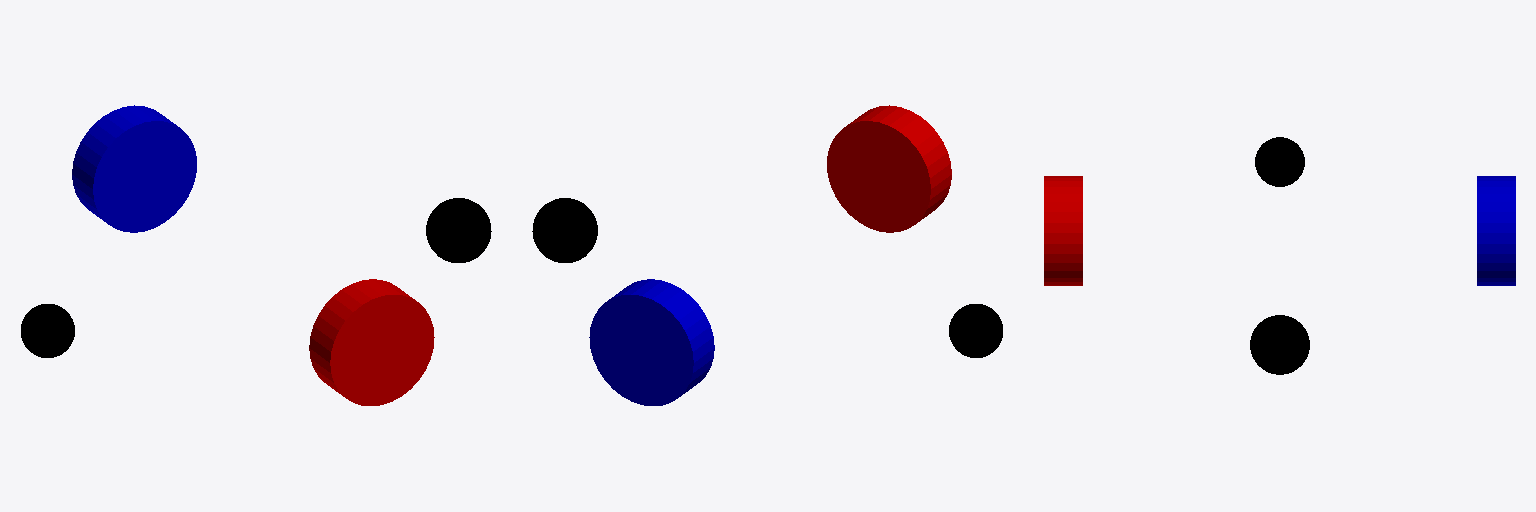
URDF robot description (iRobot):
<?xml version="1.0" ?>
<!-- =================================================================================== -->
<!-- |    This document was autogenerated by xacro from iRobot.urdf.xacro              | -->
<!-- |    EDITING THIS FILE BY HAND IS NOT RECOMMENDED                                 | -->
<!-- =================================================================================== -->
<robot name="iRobot">

    <material name="black"> 
        <color rgba="0 0 0 1"/>
    </material>
    <material name="blue"> 
        <color rgba="0.0 0.0 0.8 1"/>
    </material>
      <material name="red">
    <color rgba="0.8 0.0 0.0 1"/>
  </material>
<material name="grey">
    <color rgba="0.4 0.4 0.4 1.0"/>
  </material>
  <material name="body">
    <texture filename="materials/textures/create_body.png"/>
</material>


    <link name="base_footprint">
        <visual name="base_visual">
            <origin xyz="0 0 0.047800" rpy="0 0 0 " />
            <geometry>
                <mesh filename="meshes/create_body.dae"/>
            </geometry>
            <material name="grey"/>

        </visual>
        <collision name="base_visual">
            <origin xyz="0 0 0.047800" rpy="0 0 0 " />
            <geometry>
                <mesh filename="meshes/create_body.dae"/>
            </geometry>
        </collision>
    </link>
    <link name="us1_link"/>
    <link name="us2_link"/>
    <link name="us3_link"/>
    <link name="us4_link"/>
    <link name="us5_link"/>
    <link name="us6_link"/>
    <link name="us7_link"/>
    <link name="us8_link"/>
    <link name="imu_link"/>

    <!-- Left  Wheel -->
    <link name="left_wheel_link">
        <visual>
            <geometry>
                <cylinder length="0.023000" radius="0.033000"/>
            </geometry>
            <material name="blue"/>
        </visual>
        <collision>
            <geometry>
                <cylinder length="0.023000" radius="0.033000"/>
            </geometry>
        </collision>
    </link>

    <!-- Right  Wheel -->
    <link name="right_wheel_link">
        <visual>
            <geometry>
                <cylinder length="0.023000" radius="0.033000"/>
            </geometry>
            <material name="red"/>
        </visual>
        <collision>
            <geometry>
                <cylinder length="0.023000" radius="0.033000"/>
            </geometry>
        </collision>
    </link>

    <link name="front_wheel_link">
        <visual>
            <geometry>
                <sphere radius="0.018000" />
            </geometry>
            <material name="black"/>
        </visual>
        <collision>
            <geometry>
                <sphere radius="0.018000" />
            </geometry>
        </collision>
    </link>

    <link name="rear_wheel_link">
        <visual>
            <geometry>
                <sphere radius="0.015000" />
            </geometry>
            <material name="black"/>
        </visual>
        <collision>
            <geometry>
                <sphere radius="0.015000" />
            </geometry>
        </collision>
    </link>
  <link name="laser">
    <inertial>
      <origin rpy="0 0 0" xyz="0 0 0"/>
      <mass value="0.130"/>
      <inertia ixx="4E-06" ixy="0" ixz="0" iyy="4E-06" iyz="0" izz="4E-06"/>
    </inertial>
    <collision>
      <origin rpy="0 0 0" xyz="0 0 0"/>
      <geometry>
        <box size="0.1 0.1 0.1"/>
      </geometry>
    </collision>
    <visual>
      <origin rpy="0 0 0" xyz="0 0 0"/>
      <geometry>
        <mesh filename="meshes/hokuyo.obj"/>
        <material name="grey"/>
      </geometry>
    </visual>
  </link>

  <joint name="hokuyo_joint" type="fixed">
    <origin rpy="0 0 0" xyz="-0.08 0.0 0.085"/>
    <parent link="base_footprint"/>
    <child link="laser"/>
    <axis xyz="0 0 1"/>
  </joint>

    <joint name="base_us1_joint" type="fixed">
        <parent link="base_footprint"/>
        <child link="us1_link"/>
        <origin xyz="0.13 0.11 0.07" rpy="0 0 1.5708" />
    </joint>

    <joint name="base_us2_joint" type="fixed">
        <parent link="base_footprint"/>
        <child link="us2_link"/>
        <origin xyz="0.11 0.13 0.07" rpy="0 0 0" />
    </joint>

    <joint name="base_us3_joint" type="fixed">
        <parent link="base_footprint"/>
        <child link="us3_link"/>
        <origin xyz="0.11 -0.13 0.07" rpy="0 0 0" />
    </joint>

    <joint name="base_us4_joint" type="fixed">
        <parent link="base_footprint"/>
        <child link="us4_link"/>
        <origin xyz="0.13 -0.11 0.07" rpy="0 0 -1.5708" />
    </joint>

    <joint name="base_us5_joint" type="fixed">
        <parent link="base_footprint"/>
        <child link="us5_link"/>
        <origin xyz="-0.13 -0.11 0.07" rpy="0 0 -1.5708" />
    </joint>
    <joint name="base_us6_joint" type="fixed">
        <parent link="base_footprint"/>
        <child link="us6_link"/>
        <origin xyz="-0.11 -0.13 0.07" rpy="0 0 3.14" />
    </joint>
    <joint name="base_us7_joint" type="fixed">
        <parent link="base_footprint"/>
        <child link="us7_link"/>
        <origin xyz="-0.11 0.13 0.07" rpy="0 0 3.14" />
    </joint>
    <joint name="base_us8_joint" type="fixed">
        <parent link="base_footprint"/>
        <child link="us8_link"/>
        <origin xyz="-0.13 0.11 0.07" rpy="0 0 1.5708" />
    </joint>
    <joint name="base_imu_joint" type="fixed">
        <parent link="base_footprint"/>
        <child link="imu_link"/>
        <origin xyz="0 0 0" rpy="0 0 0" />
    </joint>

    <joint name="left_wheel" type="continuous">
        <parent link="base_footprint"/>
        <child link="left_wheel_link"/>
        <origin xyz="0 0.130000 0.032000" rpy="0 1.5708 1.5708" />
        <axis xyz="0 0 1"/>
    </joint>

    <joint name="right_wheel" type="continuous">
        <parent link="base_footprint"/>
        <child link="right_wheel_link"/>
        <origin xyz="0 -0.130000 0.032000" rpy="0 1.5708 1.5708" />
        <axis xyz="0 0 1"/>
    </joint>

    <joint name="front_wheel" type="fixed">
        <parent link="base_footprint"/>
        <child link="front_wheel_link"/>
        <origin xyz="0.130000 0 0.017000" rpy="0 1.5708 1.5708" />
        <axis xyz="0 0 1"/>
    </joint>

        <joint name="rear_wheel" type="fixed">
        <parent link="base_footprint"/>
        <child link="rear_wheel_link"/>
        <origin xyz="-0.130000 0 0.017000" rpy="0 1.5708 1.5708" />
        <axis xyz="0 0 1"/>
    </joint>

</robot>

--- What the picture shows (computed from the rendered views, not written in the file) ---
Views: 3 orthographic renders of the robot side by side, from view 1: azimuth 30°, elevation 25°; view 2: azimuth 150°, elevation 25°; view 3: azimuth 270°, elevation 25°.
Robot: iRobot — 15 links, 14 joints (2 continuous, 12 fixed); root link base_footprint; default pose: all joints at 0.
Links seen in each view (by area): view 1: right_wheel_link, left_wheel_link, front_wheel_link, rear_wheel_link; view 2: left_wheel_link, right_wheel_link, front_wheel_link, rear_wheel_link; view 3: left_wheel_link, right_wheel_link, front_wheel_link, rear_wheel_link.
Boxes of the visible links, <box> form: right_wheel_link: <box>309,279,434,405</box>; left_wheel_link: <box>72,105,196,232</box>; front_wheel_link: <box>426,198,491,262</box>; rear_wheel_link: <box>21,304,74,357</box>; left_wheel_link: <box>589,279,714,405</box>; right_wheel_link: <box>827,105,951,232</box>; front_wheel_link: <box>532,198,597,262</box>; rear_wheel_link: <box>949,304,1002,357</box>; left_wheel_link: <box>1477,176,1515,285</box>; right_wheel_link: <box>1044,176,1082,285</box>; front_wheel_link: <box>1250,315,1309,374</box>; rear_wheel_link: <box>1255,137,1304,186</box>.
Size in the robot's own frame: 0.293 by 0.283 by 0.066 metres.
0 mesh visuals loaded from 2 distinct referenced files (none loaded); not drawn: 2 (reference not matched to a file when rendering).